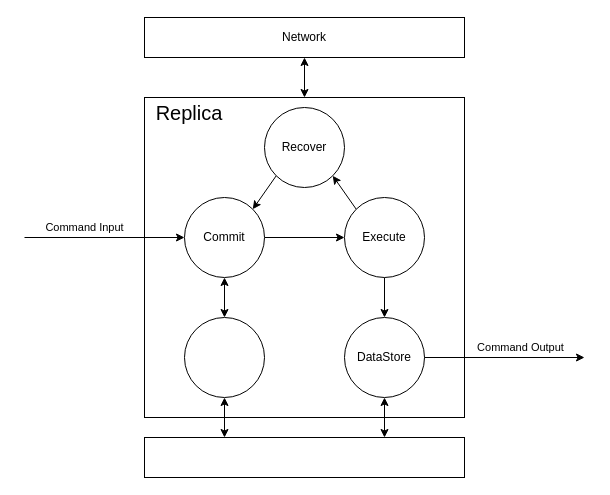
The diagram is 610 pixels wide and 495 high, and some of its shapes have lost their labels. The centre of each missing label's shape, as x and y in pixels:
LogStore: the point at 224,357
Persistent Storage: the point at 304,457
